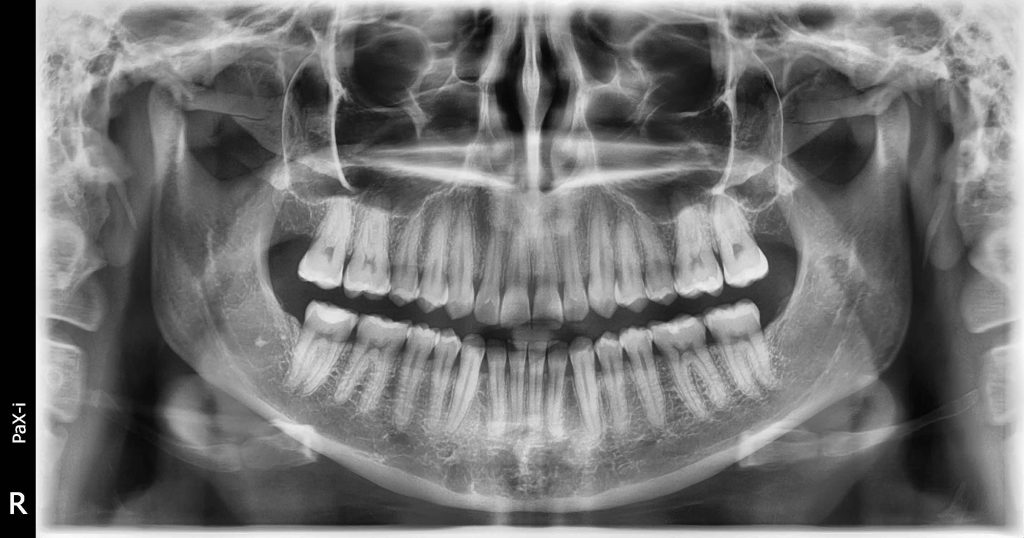canine: (440, 329, 488, 443), (580, 195, 621, 324), (564, 328, 604, 439), (446, 182, 477, 322)
incisor: (494, 184, 536, 337), (471, 176, 510, 333), (526, 194, 568, 337), (550, 197, 592, 329), (540, 331, 571, 450), (481, 325, 511, 440), (502, 324, 531, 440), (524, 326, 550, 444)
molar: (696, 287, 788, 416), (333, 294, 414, 429), (282, 280, 362, 408), (647, 309, 729, 422), (293, 178, 359, 299), (703, 183, 777, 290), (662, 183, 725, 302), (342, 183, 399, 313)
premolar: (613, 319, 675, 434), (388, 314, 442, 440), (385, 188, 436, 310), (604, 193, 654, 316), (627, 199, 678, 309), (589, 322, 633, 442), (425, 321, 465, 437), (415, 195, 452, 318)
